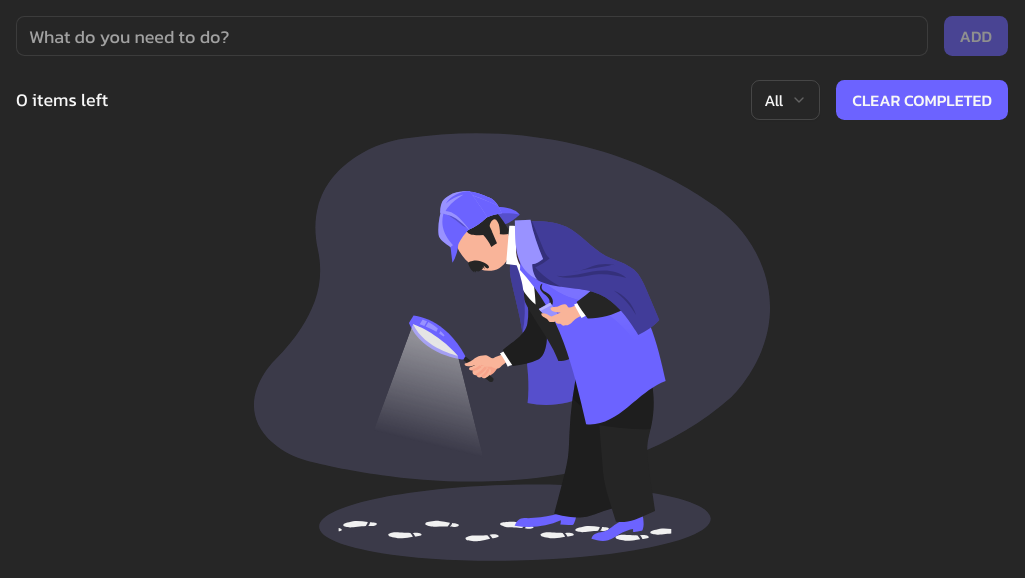
Scenario: Todos Component (Full Integration Test) › should add a new task and display it in the list
The width and height of the screenshot is (1025, 578).
Type "First task" into the field with placeholder "What do you need to do?". click: x=472, y=36
box: 16,16 -> 928,56
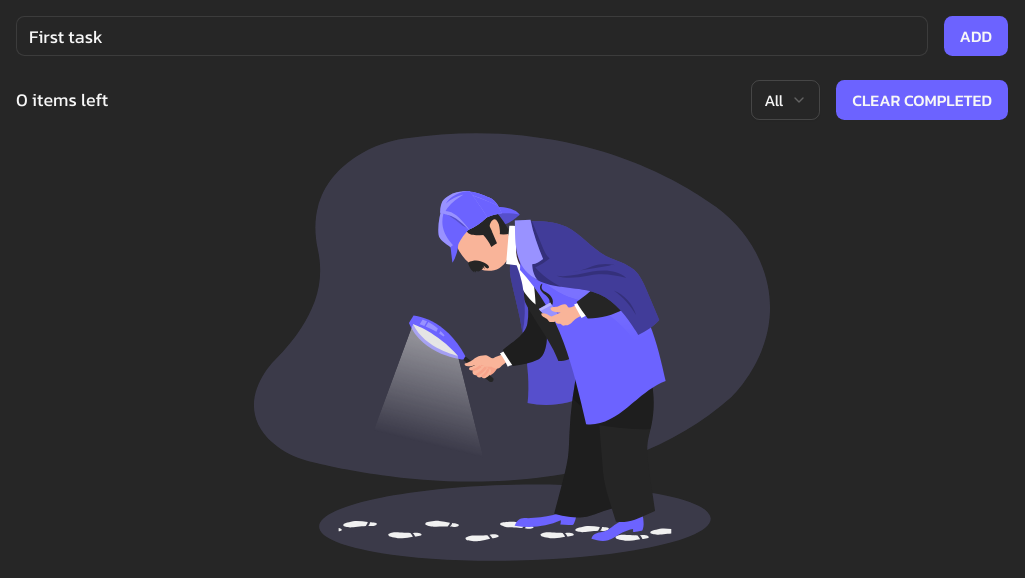
Click the button "Add". click: x=976, y=36
box: 944,16 -> 1008,56
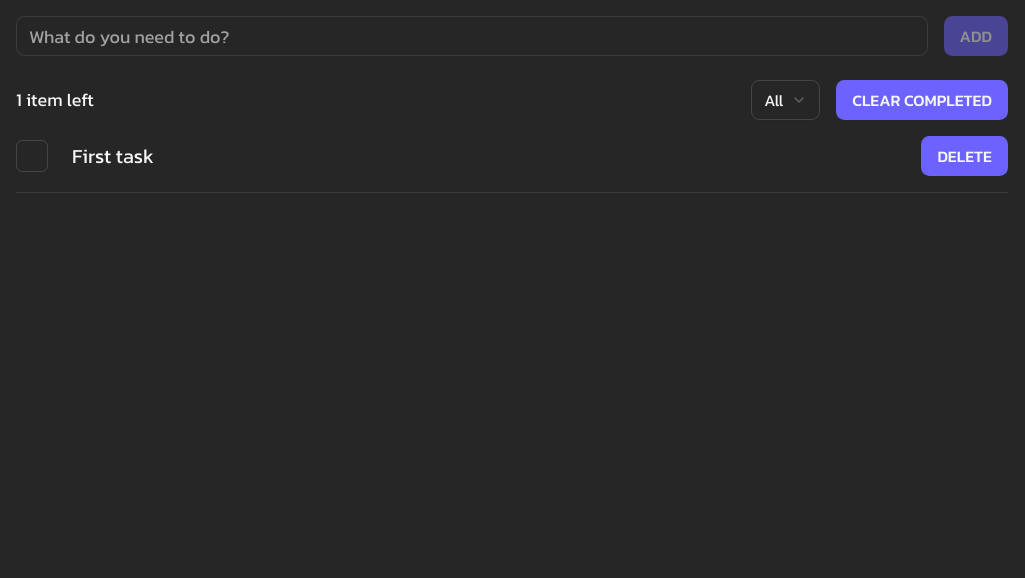
Expected: the field with placeholder "What do you need to do?" is empty, 16,16 -> 928,56
Expected: the text "First task" is shown, 72,142 -> 154,170
Expected: the text "1 item left" is shown, 16,86 -> 94,114
